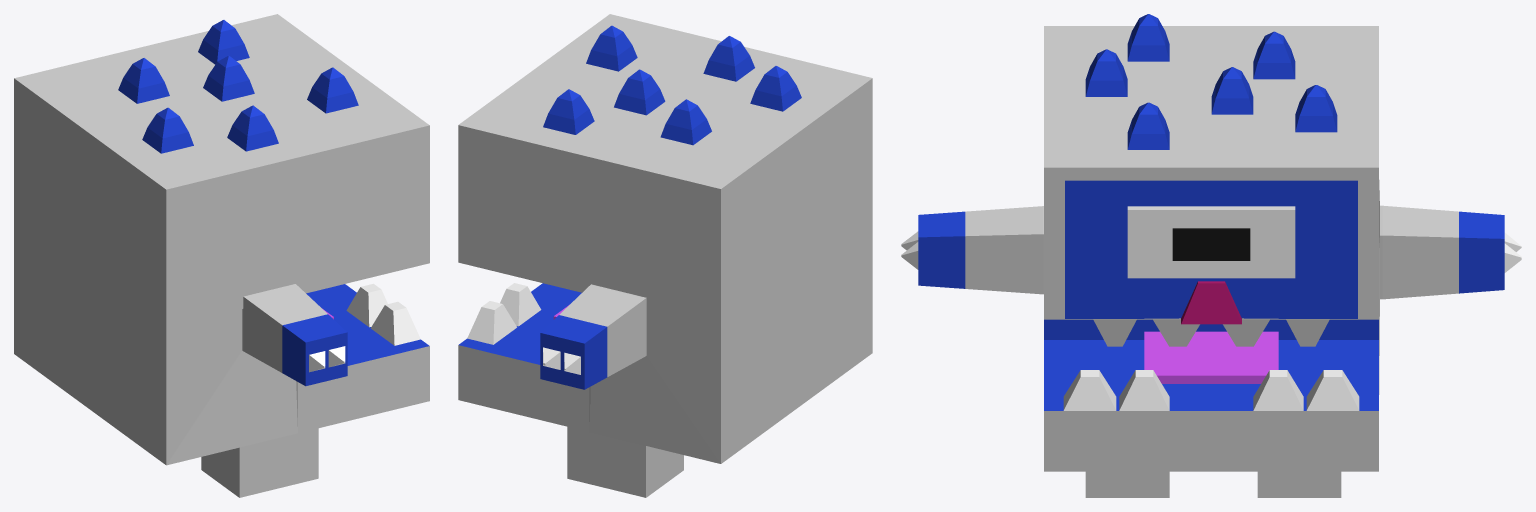
File: MonsterBlue.fbx
3 renders of one model, left to right at view 1: azimuth 30°, elevation 25°; view 2: azimuth 150°, elevation 25°; view 3: azimuth 270°, elevation 25°, orthographic. The views are drawn at different scales.
Visible parts, largest first — view 1: Cube; view 2: Cube; view 3: Cube.
Boxes of the visible parts, x1,y1,x2,y2 form: Cube: [14, 14, 429, 497]; Cube: [458, 14, 872, 497]; Cube: [901, 14, 1521, 497].
Bounding box in the file's own units: 208 × 275 × 370.
